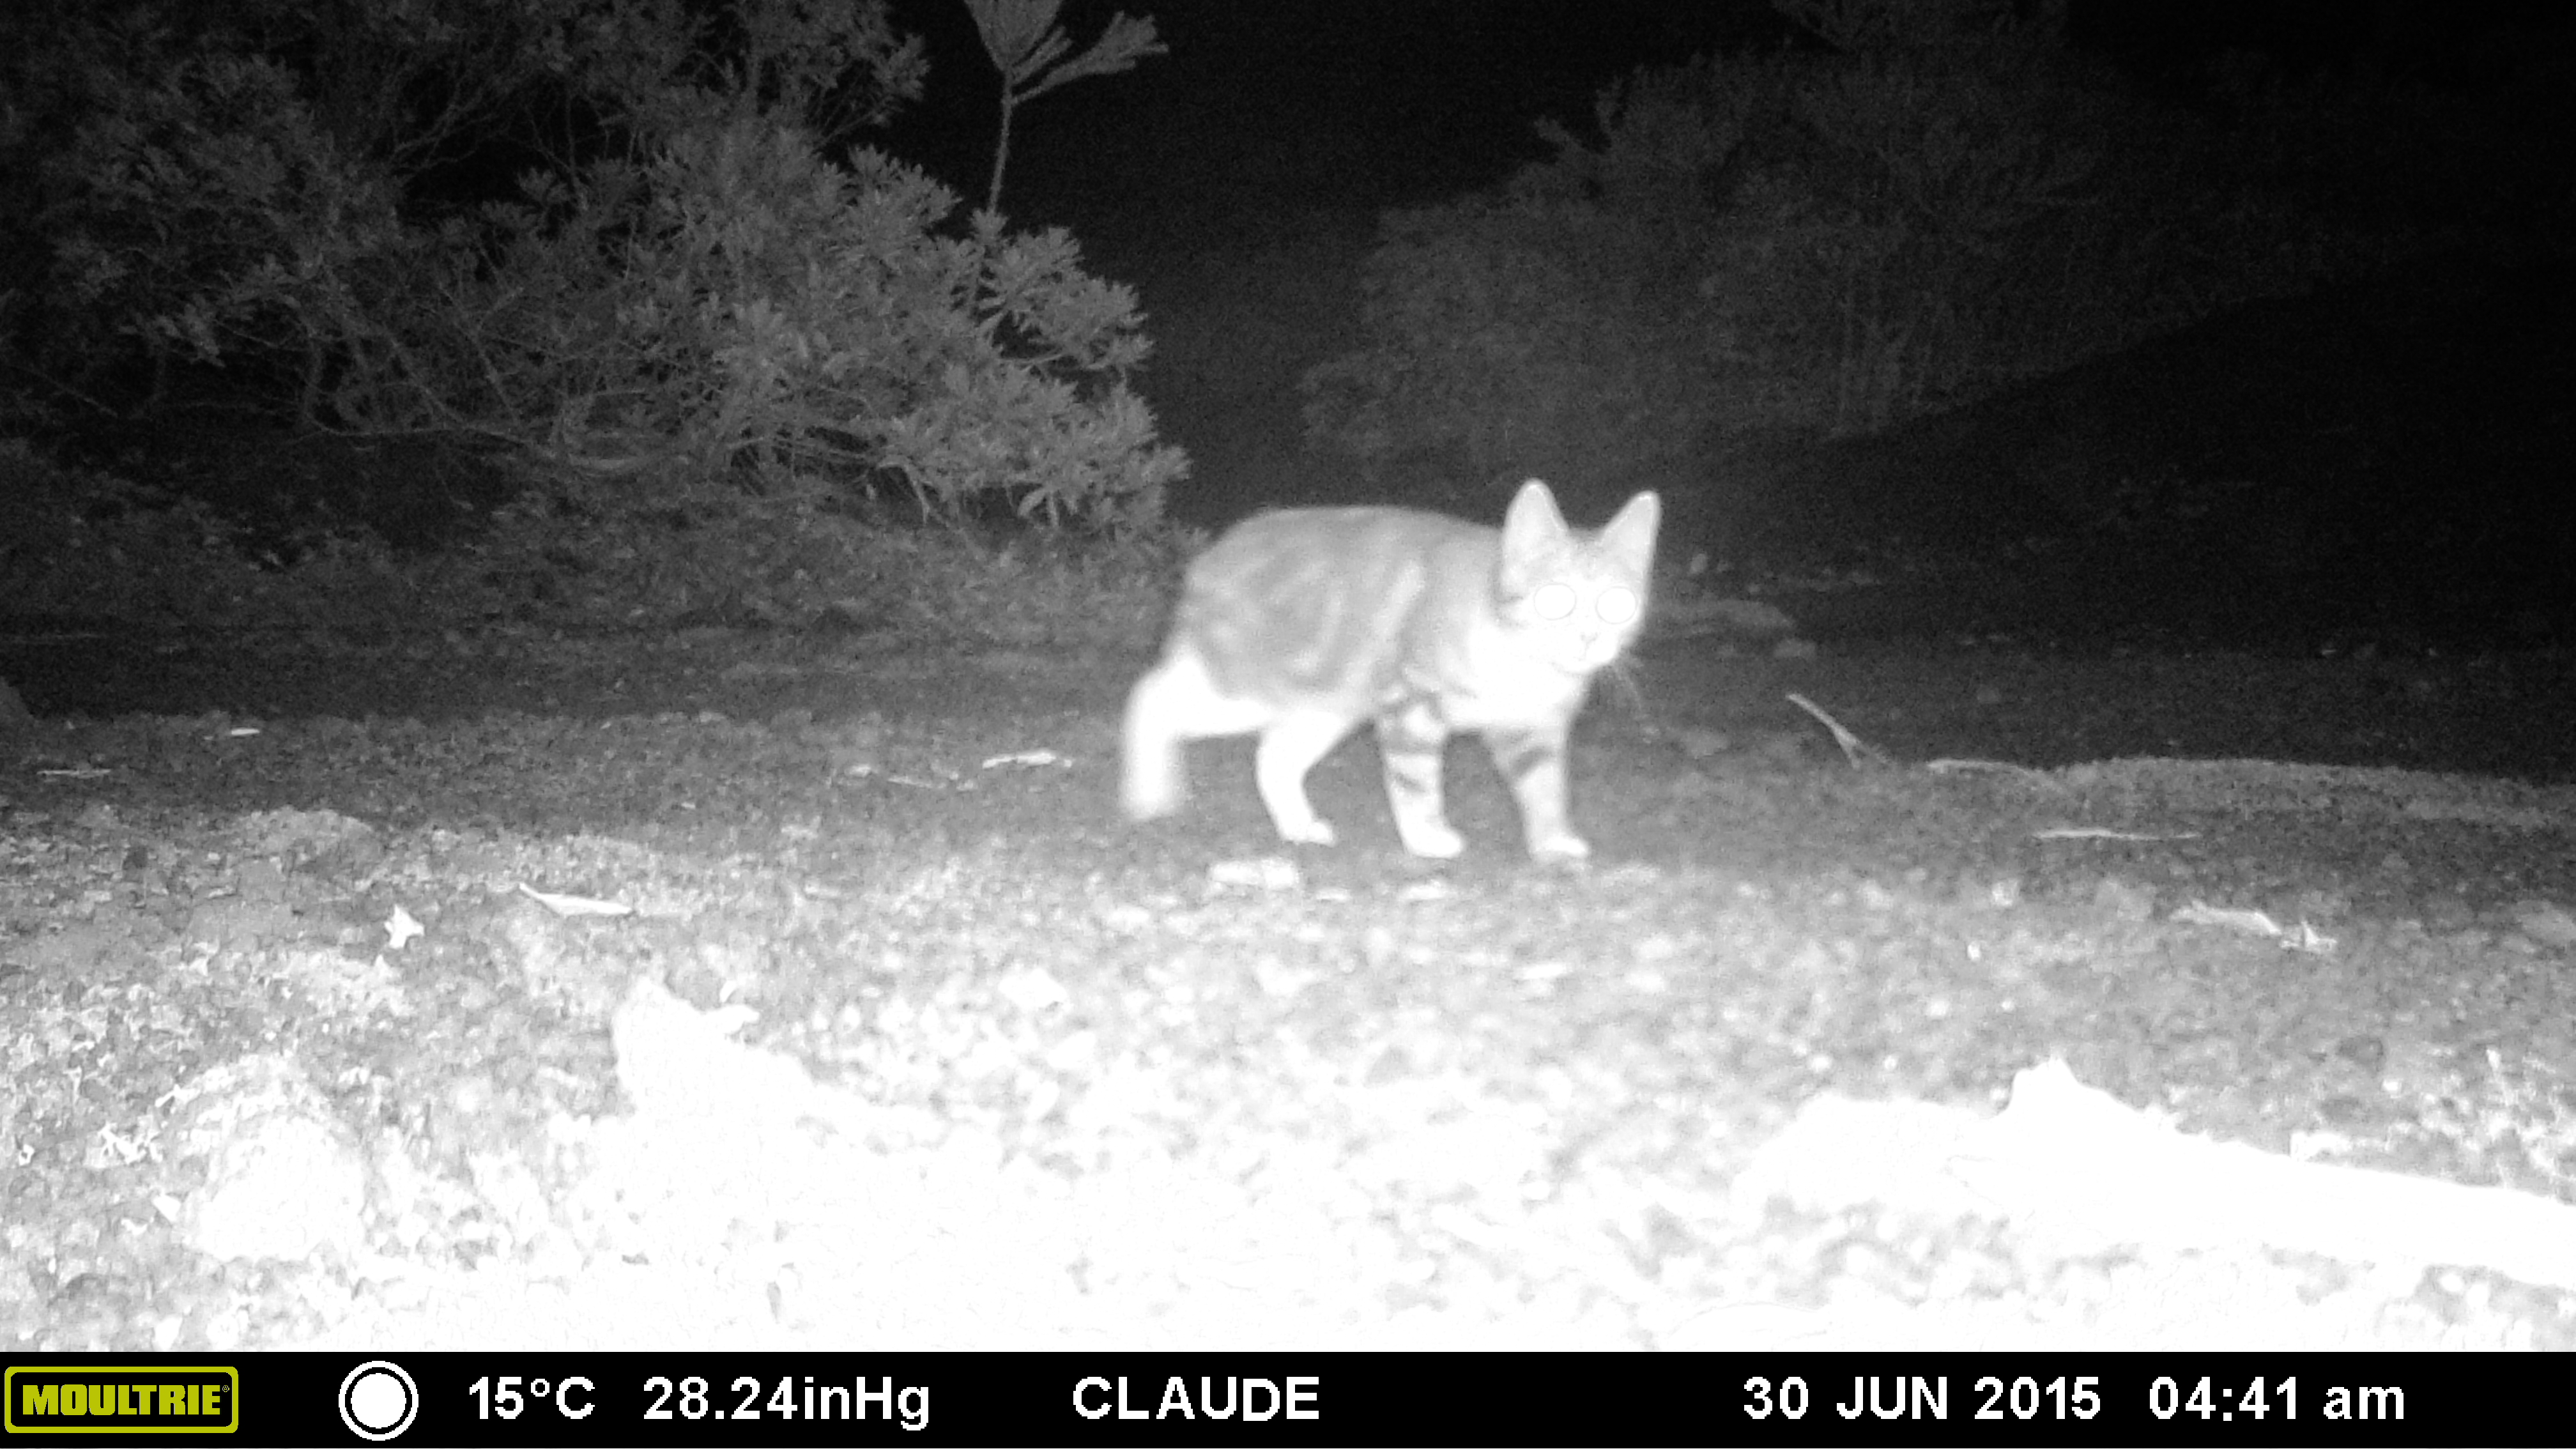cat: (1095, 481, 1681, 867)
